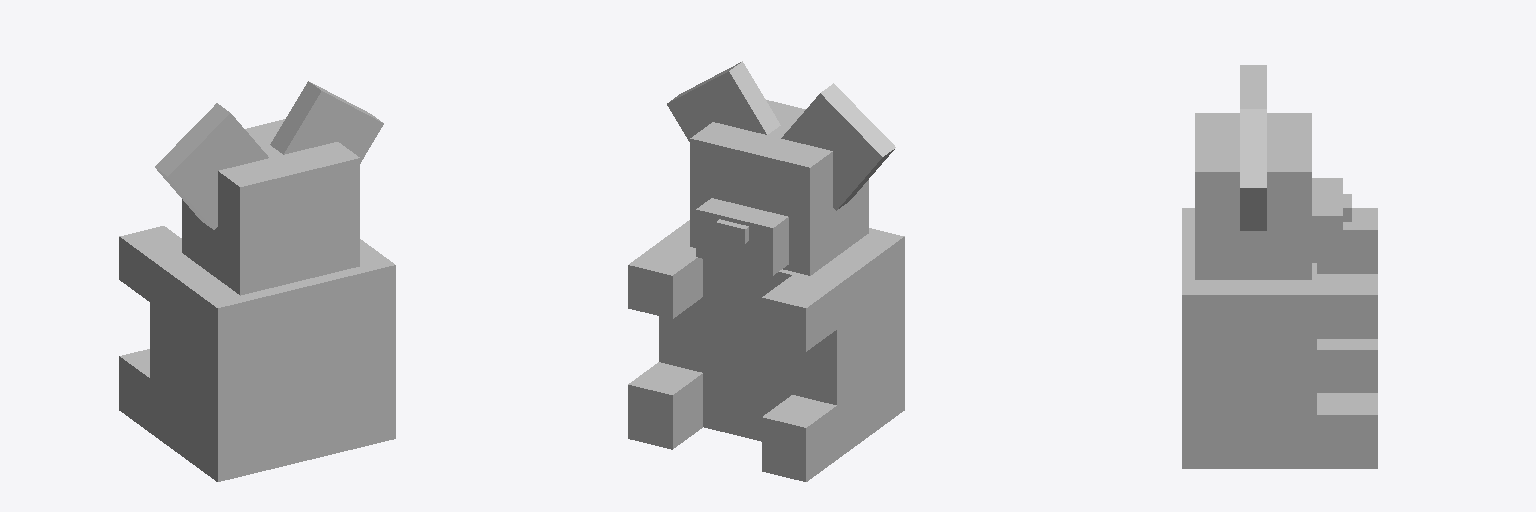
Rendered from teddy.obj.
3 views of the same model, side by side, from view 1: azimuth 30°, elevation 25°; view 2: azimuth 150°, elevation 25°; view 3: azimuth 270°, elevation 25° (orthographic).
Visible parts, largest first — view 1: nodebox3, nodebox3.001, nodebox3.003, nodebox3.002, nodebox5, nodebox2; view 2: nodebox3, nodebox3.001, nodebox3.003, nodebox1, nodebox2, nodebox3.004, nodebox3.002, nodebox5, nodebox4, nodebox3.005; view 3: nodebox3, nodebox3.001, nodebox1, nodebox4, nodebox3.002, nodebox2, nodebox3.004, nodebox5, nodebox3.003.
Part boxes in pixels (x1,y1,x2,y2): nodebox3: (150,239,395,481); nodebox3.001: (182,119,359,295); nodebox3.003: (155,103,268,229); nodebox3.002: (270,81,383,163); nodebox5: (119,226,181,301); nodebox2: (119,349,149,432); nodebox3: (659,220,904,459); nodebox3.001: (690,100,868,275); nodebox3.003: (781,83,895,210); nodebox1: (628,362,702,449); nodebox2: (762,395,836,481); nodebox3.004: (696,198,788,275); nodebox3.002: (667,61,780,141); nodebox5: (762,275,836,351); nodebox4: (628,243,702,318); nodebox3.005: (716,219,748,243); nodebox3: (1182,208,1316,468); nodebox3.001: (1195,113,1311,279); nodebox1: (1317,393,1377,468); nodebox4: (1317,274,1377,338); nodebox3.002: (1240,109,1266,230); nodebox2: (1317,339,1377,392); nodebox3.004: (1312,178,1342,262); nodebox5: (1317,208,1377,273); nodebox3.003: (1240,65,1266,108).
Bounding box in the file's own units: 0.4232 × 0.6322 × 0.3327.